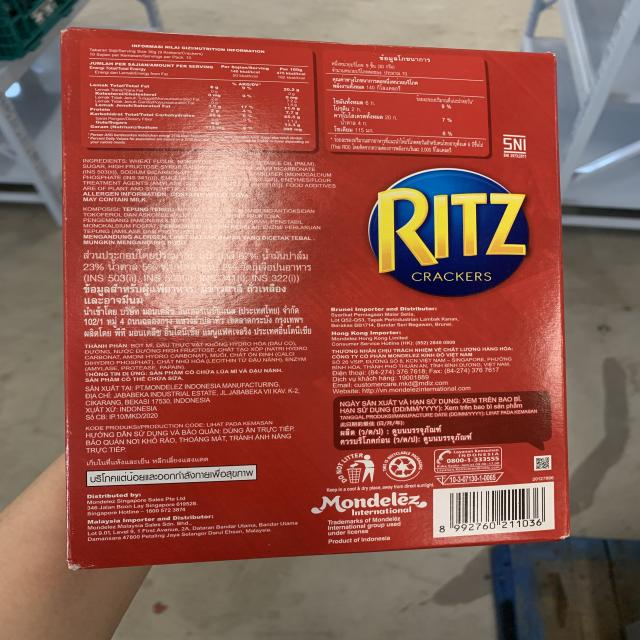object_name: (65, 34, 568, 544)
